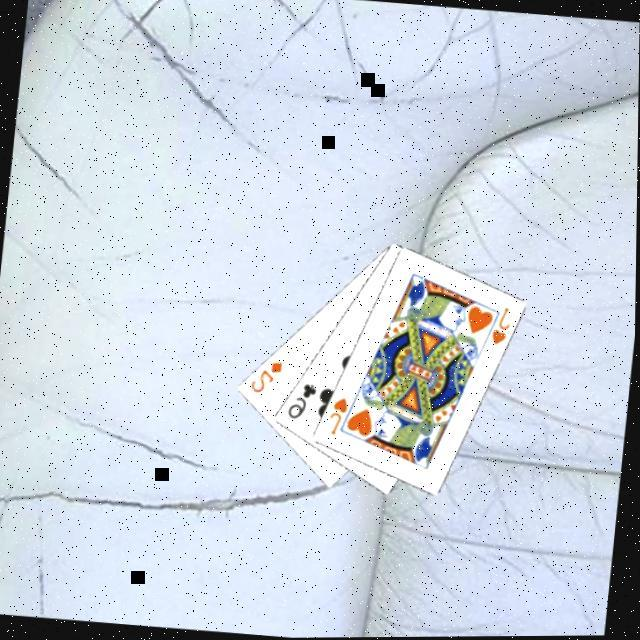2D: (247, 358, 286, 399)
9C: (284, 381, 322, 426)
JH: (488, 305, 517, 351), (325, 395, 354, 440)
